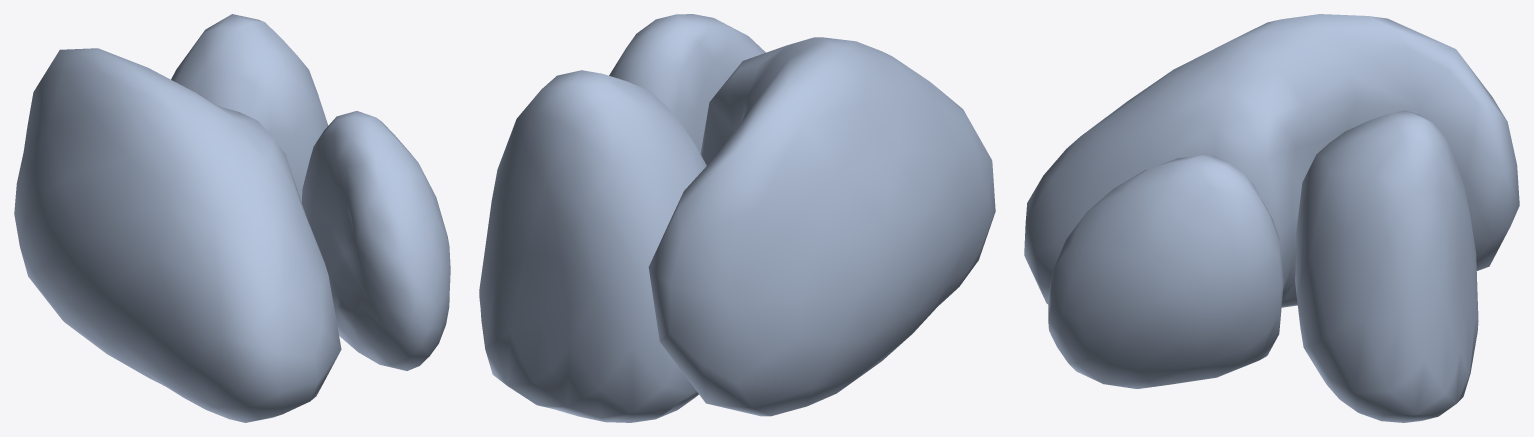
3 views of the same model, side by side, from view 1: azimuth 30°, elevation 25°; view 2: azimuth 150°, elevation 25°; view 3: azimuth 270°, elevation 25° (orthographic). The views are drawn at different scales.
Parts seen in each view (by area): view 1: 左侧筛骨后群小房; view 2: 左侧筛骨后群小房; view 3: 左侧筛骨后群小房.
Boxes of the visible parts, <box> form: 左侧筛骨后群小房: <box>14,14,450,422</box>; 左侧筛骨后群小房: <box>479,14,995,422</box>; 左侧筛骨后群小房: <box>1024,14,1519,422</box>.
Size of the model in its own units: 0.0141 by 0.0124 by 0.0181.
